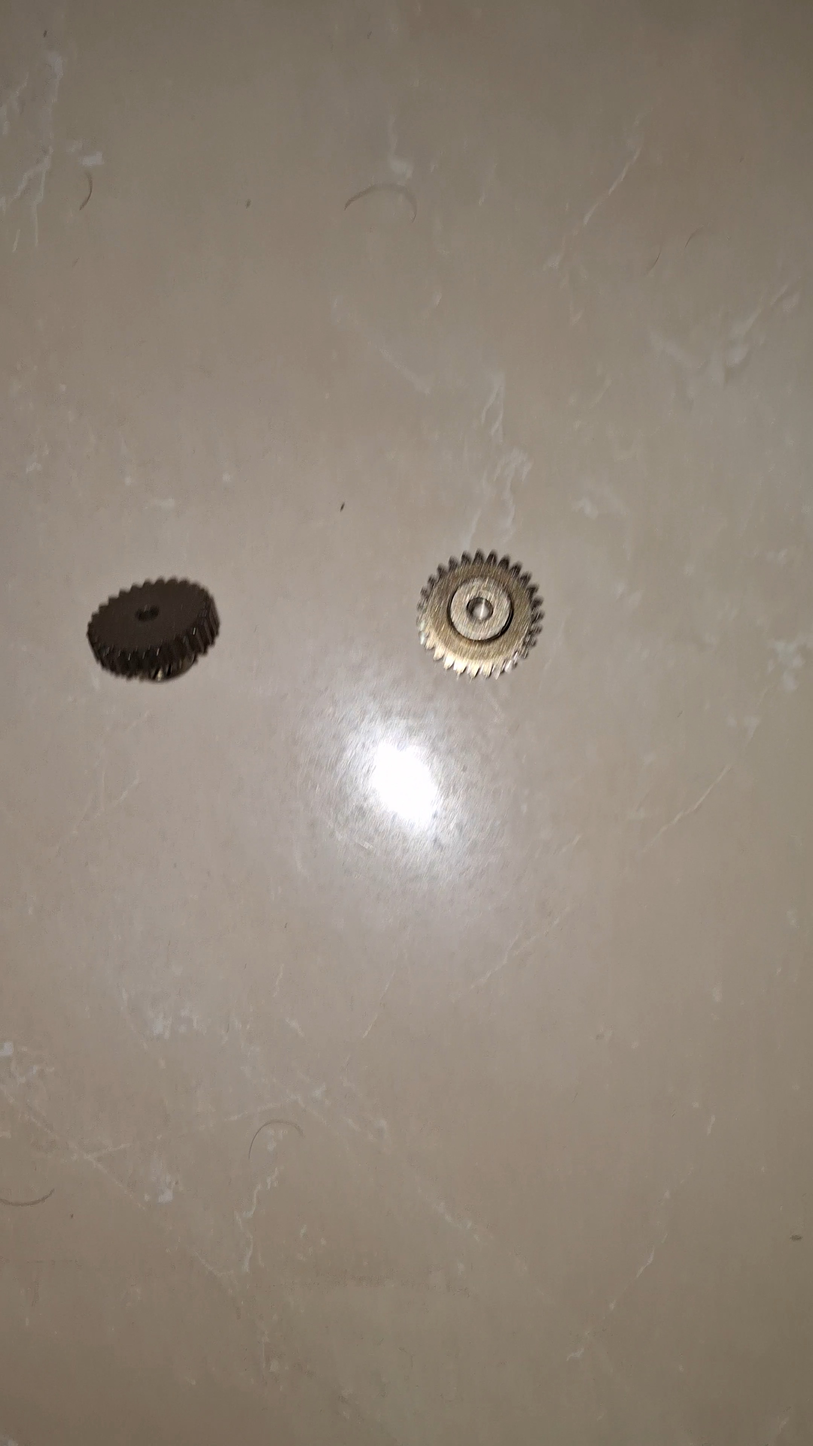spur gear: (418, 551, 542, 677), (87, 578, 219, 680)
